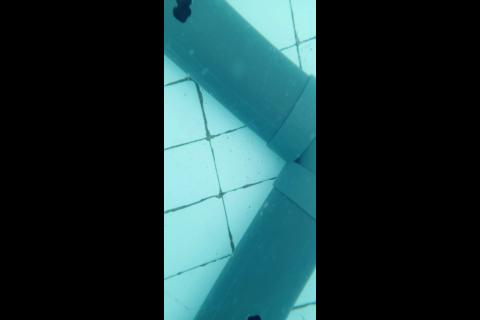kebocoran: (172, 0, 192, 24), (246, 312, 261, 319)
